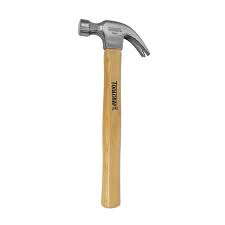martillu: (74, 14, 151, 209)
